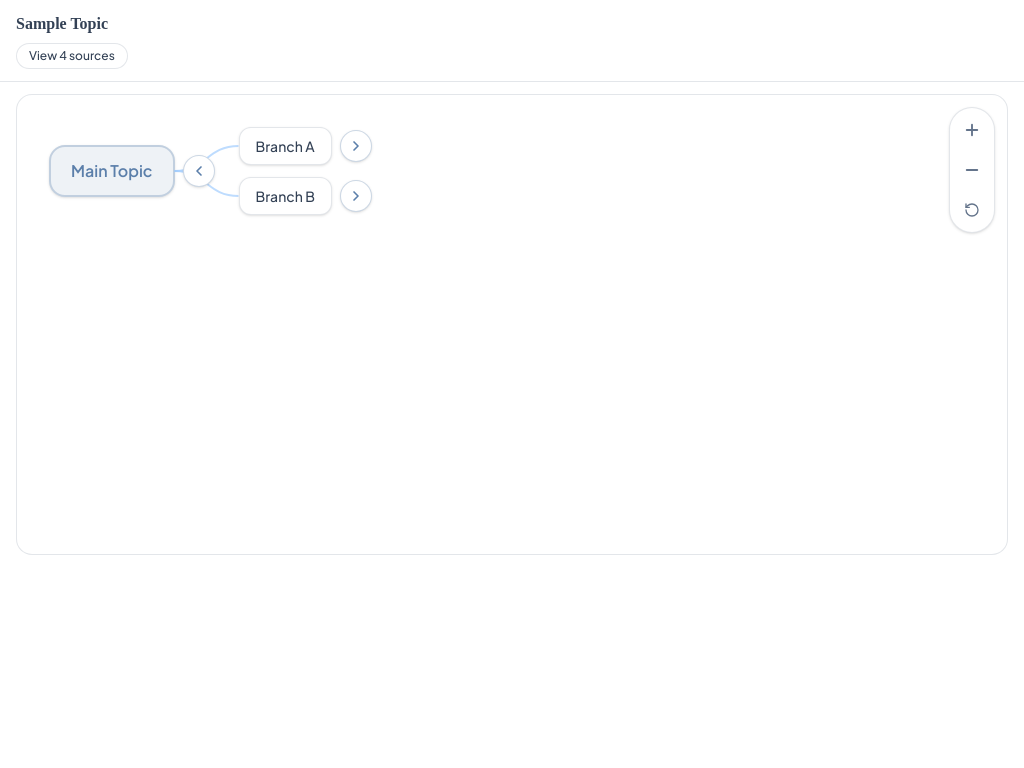
Test: ArtifactViewer mind map › popover closes when Escape is pressed
This screenshot has width=1024, height=768.
Step 1. Click the button "View 4 sources" → [72, 56], box [16,43,128,69]
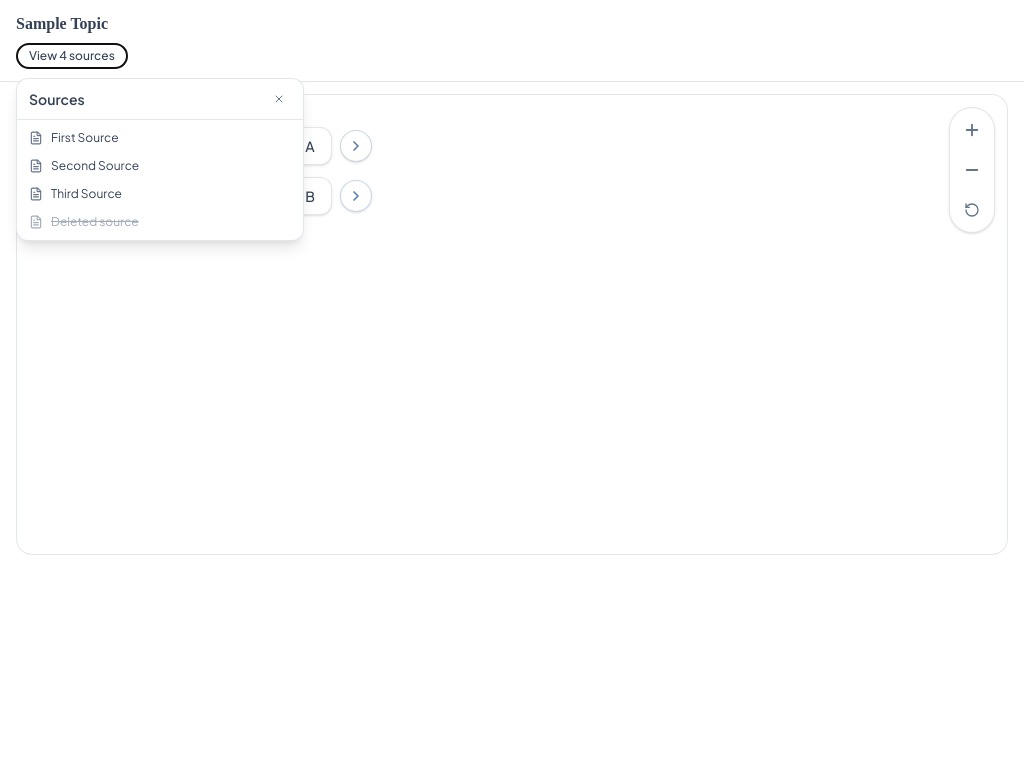
Result: the dialog is shown at [16,78,304,241]
Step 2. Press Escape
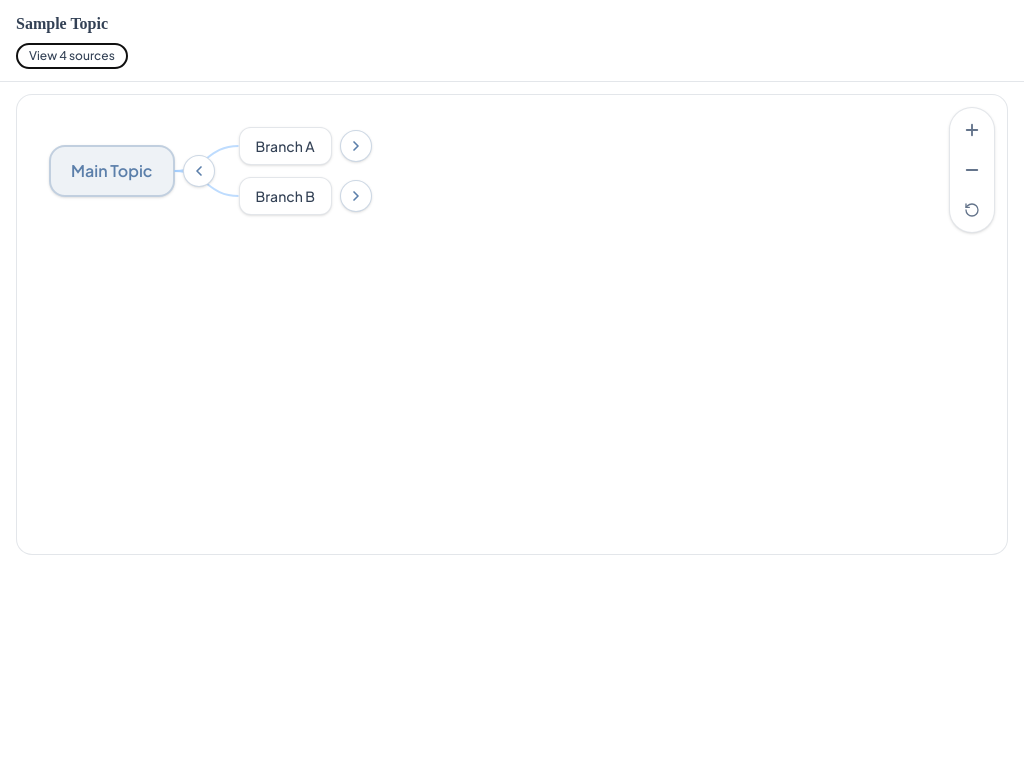
Result: the dialog is gone
